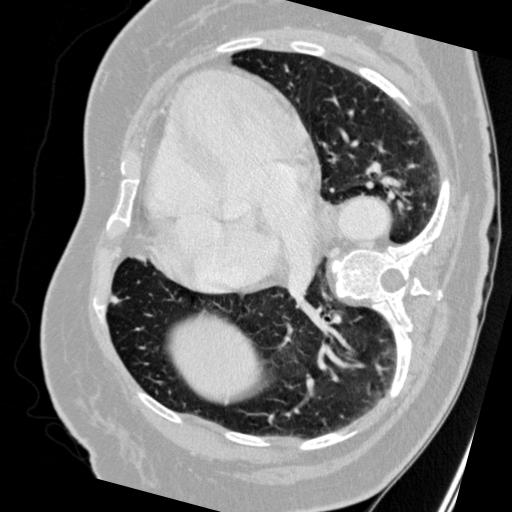nodule: (106, 293, 122, 309)
